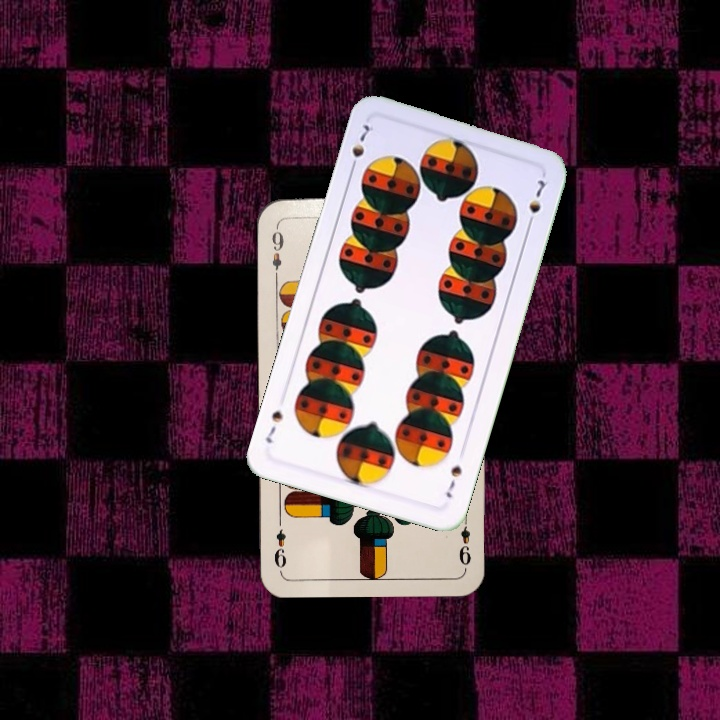E9: (267, 222, 287, 281), (455, 511, 474, 568)
S7: (346, 117, 377, 175), (441, 462, 465, 501)
